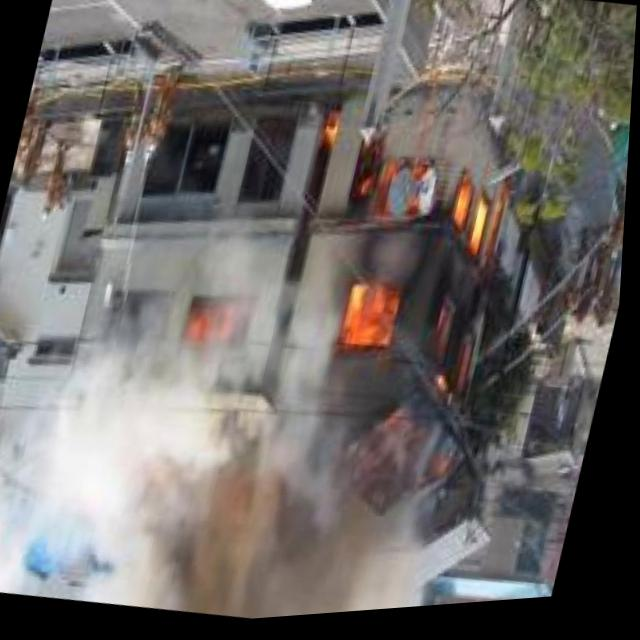Fire: (249, 90, 568, 486)
